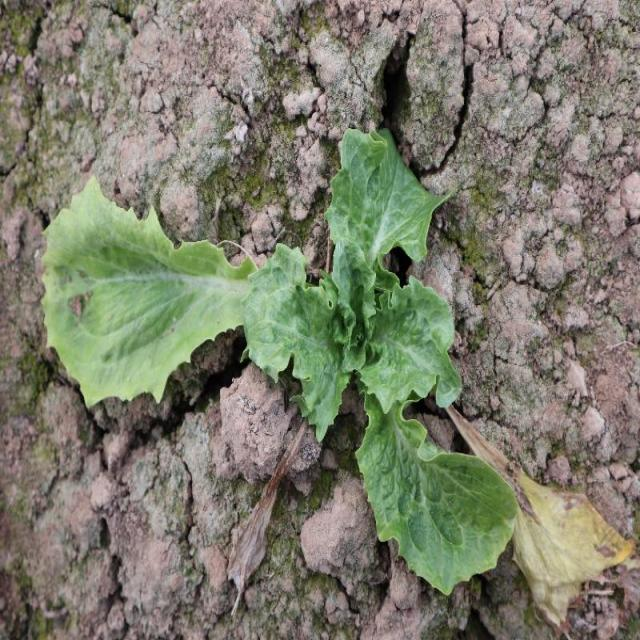crop: (42, 124, 520, 591)
